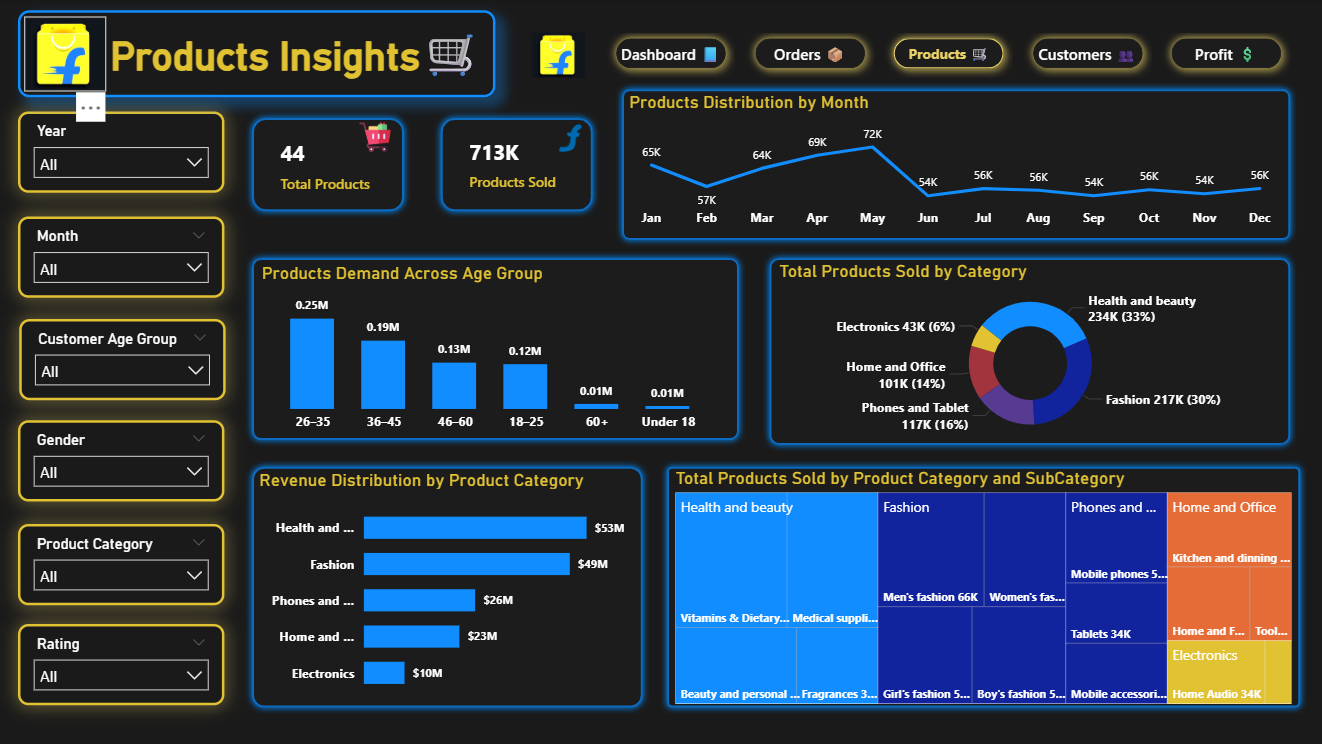

What the dashboard file says about the page in this screenshot:
{"tool":"powerbi","page":{"name":"Products 🛒","canvas":[1280,720],"ordinal":3},"visuals":[{"type":"shape","box":[596,80.8,657.5,158],"z":0},{"type":"shape","box":[738.3,243.7,515.2,193],"z":1000},{"type":"shape","box":[238.9,445.2,389.7,244.9],"z":2000},{"type":"shape","box":[238.9,243.7,482.6,188.2],"z":3000},{"type":"slicer","fields":{"Values":["Data.Year"]},"box":[19.3,108.6,199.1,78.4],"z":5000},{"type":"slicer","fields":{"Values":["Data.Month"]},"box":[19.3,209.9,199.1,78.4],"z":6000},{"type":"slicer","fields":{"Values":["Data.Age Group"]},"box":[20.5,308.8,199.1,78.4],"z":7000},{"type":"slicer","fields":{"Values":["Data.Customer Gender"]},"box":[19.3,406.6,199.1,78.4],"z":8000},{"type":"slicer","fields":{"Values":["Data.Product Category"]},"box":[19.3,506.7,199.1,78.4],"z":9000},{"type":"slicer","fields":{"Values":["Data.Rating"]},"box":[19.3,603.2,199.1,78.4],"z":10000},{"type":"shape","box":[639.4,445.2,623.7,244.9],"z":11000},{"type":"shape","box":[238.9,108.6,159.3,102.5],"z":13000},{"type":"shape","box":[421,108.6,159.3,102.5],"z":14000},{"type":"cardVisual","fields":{"Data":["_Measures.Total Products Sold"]},"box":[425.9,117,154.4,85.7],"z":15000},{"type":"lineChart","title":"Products Distribution by Month","fields":{"Y":["_Measures.Total Products Sold"],"Category":["Data.Short Month"]},"box":[604.4,89.3,640,140],"z":16000},{"type":"treemap","fields":{"Details":["Data.SubCategory"],"Group":["Data.Product Category"],"Values":["_Measures.Total Products Sold"]},"box":[649.1,452.4,604.4,232.8],"z":17000},{"type":"barChart","title":"Revenue Distribution by Product Category","fields":{"Category":["Data.Product Category"],"Y":["_Measures.Total Revenue"]},"box":[247.3,453.6,374,228],"z":18000},{"type":"clusteredColumnChart","title":"Products Demand Across Age Group","fields":{"Y":["_Measures.Total Products Sold"],"Category":["Data.Age Group"]},"box":[249.7,254.6,452.4,171.3],"z":19000},{"type":"donutChart","title":"Total Products Sold by  Category","fields":{"Category":["Data.Product Category"],"Y":["_Measures.Total Products Sold"]},"box":[749.2,252.1,494.6,179.8],"z":20000},{"type":"cardVisual","fields":{"Data":["_Measures.Total Products"]},"box":[243.7,118.2,154.4,85.7],"z":21000},{"type":"pageNavigator","box":[587.8,29.3,661.8,47.5],"z":21001},{"type":"textbox","box":[19.5,11.2,460.7,83.8],"z":21002},{"type":"image","box":[25.1,16.8,79.6,72.6],"z":21003},{"type":"image","box":[515.2,23.7,51.7,60],"z":21004},{"type":"actionButton","box":[515.2,29.3,51.7,54.5],"z":21005}]}

Visuals, with their boxes in screenshot pixels (x1, y1, x2, y2), scaled from the page's 1280x720 canvas onto the 1322x744 screenshot:
shape: {"x1": 616, "y1": 83, "x2": 1295, "y2": 247}
shape: {"x1": 763, "y1": 252, "x2": 1295, "y2": 451}
shape: {"x1": 247, "y1": 460, "x2": 649, "y2": 713}
shape: {"x1": 247, "y1": 252, "x2": 745, "y2": 446}
slicer - Data.Year: {"x1": 20, "y1": 112, "x2": 226, "y2": 193}
slicer - Data.Month: {"x1": 20, "y1": 217, "x2": 226, "y2": 298}
slicer - Data.Age Group: {"x1": 21, "y1": 319, "x2": 227, "y2": 400}
slicer - Data.Customer Gender: {"x1": 20, "y1": 420, "x2": 226, "y2": 501}
slicer - Data.Product Category: {"x1": 20, "y1": 524, "x2": 226, "y2": 605}
slicer - Data.Rating: {"x1": 20, "y1": 623, "x2": 226, "y2": 704}
shape: {"x1": 660, "y1": 460, "x2": 1305, "y2": 713}
shape: {"x1": 247, "y1": 112, "x2": 411, "y2": 218}
shape: {"x1": 435, "y1": 112, "x2": 599, "y2": 218}
cardVisual - _Measures.Total Products Sold: {"x1": 440, "y1": 121, "x2": 599, "y2": 209}
"Products Distribution by Month" lineChart: {"x1": 624, "y1": 92, "x2": 1285, "y2": 237}
treemap - Data.SubCategory x Data.Product Category: {"x1": 670, "y1": 467, "x2": 1295, "y2": 708}
"Revenue Distribution by Product Category" barChart: {"x1": 255, "y1": 469, "x2": 642, "y2": 704}
"Products Demand Across Age Group" clusteredColumnChart: {"x1": 258, "y1": 263, "x2": 725, "y2": 440}
"Total Products Sold by  Category" donutChart: {"x1": 774, "y1": 261, "x2": 1285, "y2": 446}
cardVisual - _Measures.Total Products: {"x1": 252, "y1": 122, "x2": 411, "y2": 211}
pageNavigator: {"x1": 607, "y1": 30, "x2": 1291, "y2": 79}
textbox: {"x1": 20, "y1": 12, "x2": 496, "y2": 98}
image: {"x1": 26, "y1": 17, "x2": 108, "y2": 92}
image: {"x1": 532, "y1": 24, "x2": 586, "y2": 86}
actionButton: {"x1": 532, "y1": 30, "x2": 586, "y2": 87}
